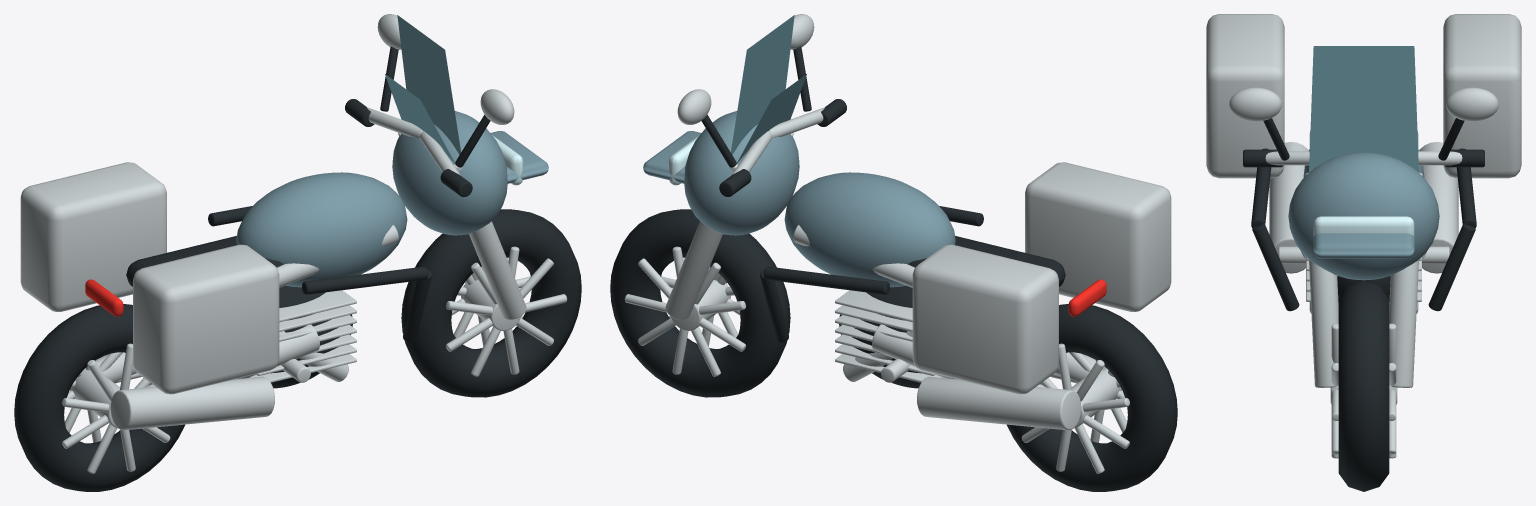
Rendered from NomadGS.fbx.
The picture shows the model from 3 angles, left to right: view 1: azimuth 30°, elevation 25°; view 2: azimuth 150°, elevation 25°; view 3: azimuth 270°, elevation 25°; orthographic projection. The views are drawn at different scales.
Parts seen in each view (by area): view 1: BrushedAlloy.002, BodyPaint, TrimRubber, TrimRubber.001, TrimRubber.002, Glazing, BrushedAlloy, BrushedAlloy.001, Taillamp; view 2: BrushedAlloy.002, BodyPaint, TrimRubber, TrimRubber.001, TrimRubber.002, Glazing, BrushedAlloy, BrushedAlloy.001, Taillamp; view 3: BrushedAlloy.002, BodyPaint, Glazing, TrimRubber, TrimRubber.002, BrushedAlloy, Headlamp.
Part boxes in pixels (<box>): BrushedAlloy.002: <box>20,14,526,430</box>; BodyPaint: <box>236,111,548,287</box>; TrimRubber: <box>401,209,581,397</box>; TrimRubber.001: <box>14,304,184,491</box>; TrimRubber.002: <box>126,46,490,388</box>; Glazing: <box>385,15,460,163</box>; BrushedAlloy: <box>446,246,567,376</box>; BrushedAlloy.001: <box>62,343,170,473</box>; Taillamp: <box>85,279,123,316</box>; BrushedAlloy.002: <box>665,14,1171,430</box>; BodyPaint: <box>643,111,955,287</box>; TrimRubber: <box>610,209,790,397</box>; TrimRubber.001: <box>1007,304,1177,491</box>; TrimRubber.002: <box>701,46,1065,388</box>; Glazing: <box>731,15,806,163</box>; BrushedAlloy: <box>624,246,745,376</box>; BrushedAlloy.001: <box>1021,343,1129,473</box>; Taillamp: <box>1068,279,1106,316</box>; BrushedAlloy.002: <box>1206,14,1521,387</box>; BodyPaint: <box>1288,149,1439,280</box>; Glazing: <box>1309,46,1418,172</box>; TrimRubber: <box>1338,280,1389,491</box>; TrimRubber.002: <box>1243,118,1484,311</box>; BrushedAlloy: <box>1330,323,1397,458</box>; Headlamp: <box>1313,216,1414,236</box>.
Bounding box in the file's own units: 271 × 175 × 125.
